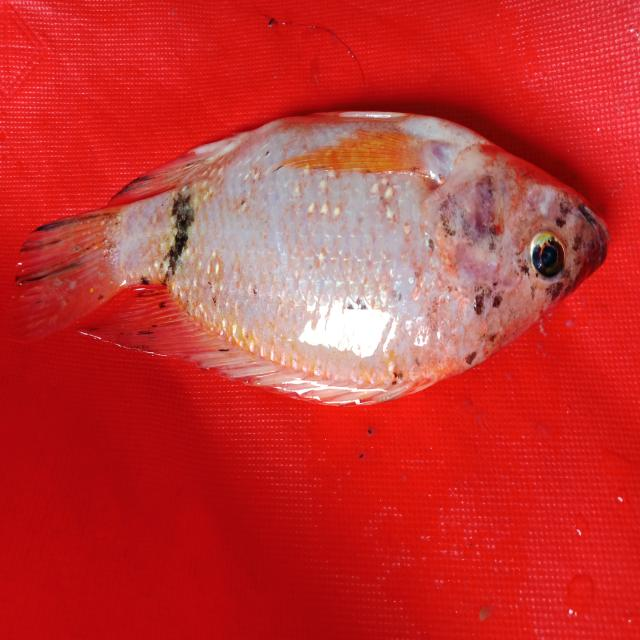ikan: (16, 92, 624, 430)
